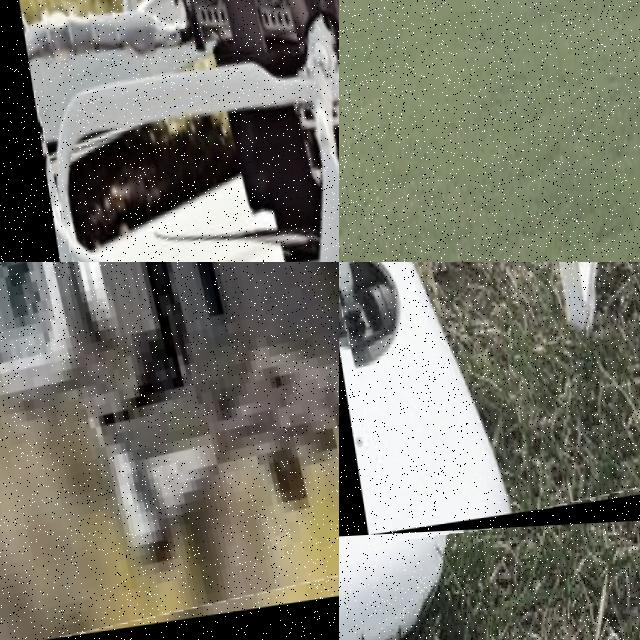drone: (0, 262, 339, 640), (0, 0, 339, 262), (339, 262, 640, 537)
